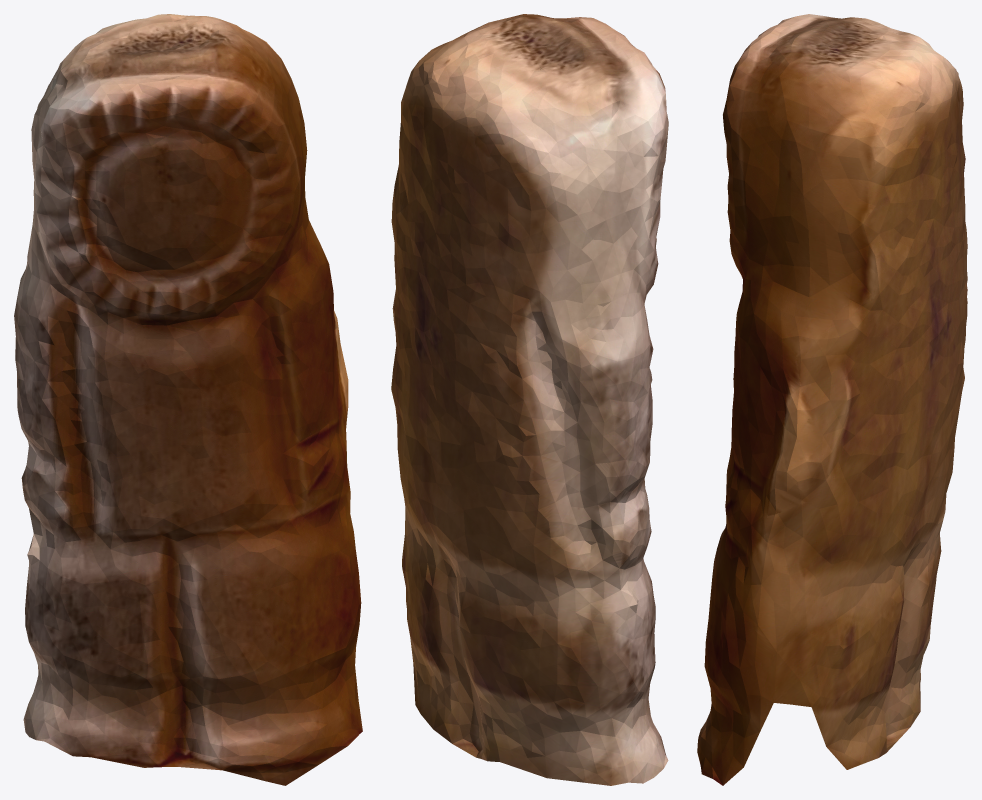
The model's file is 7_tupilac.gltf.
The picture shows the model from 3 angles, left to right: view 1: azimuth 30°, elevation 25°; view 2: azimuth 150°, elevation 25°; view 3: azimuth 270°, elevation 25°; orthographic projection. The views are drawn at different scales.
Parts seen in each view (by area): view 1: model_New Qlone_20240225_120937840; view 2: model_New Qlone_20240225_120937840; view 3: model_New Qlone_20240225_120937840.
Boxes of the visible parts, box(x1,y1,x2,y2) form: model_New Qlone_20240225_120937840: box(14, 14, 362, 785); model_New Qlone_20240225_120937840: box(391, 14, 668, 785); model_New Qlone_20240225_120937840: box(697, 14, 967, 785).
Bounding box in the file's own units: 1.47 × 3.59 × 1.24.
Materials: 1 (1 with a texture image).
